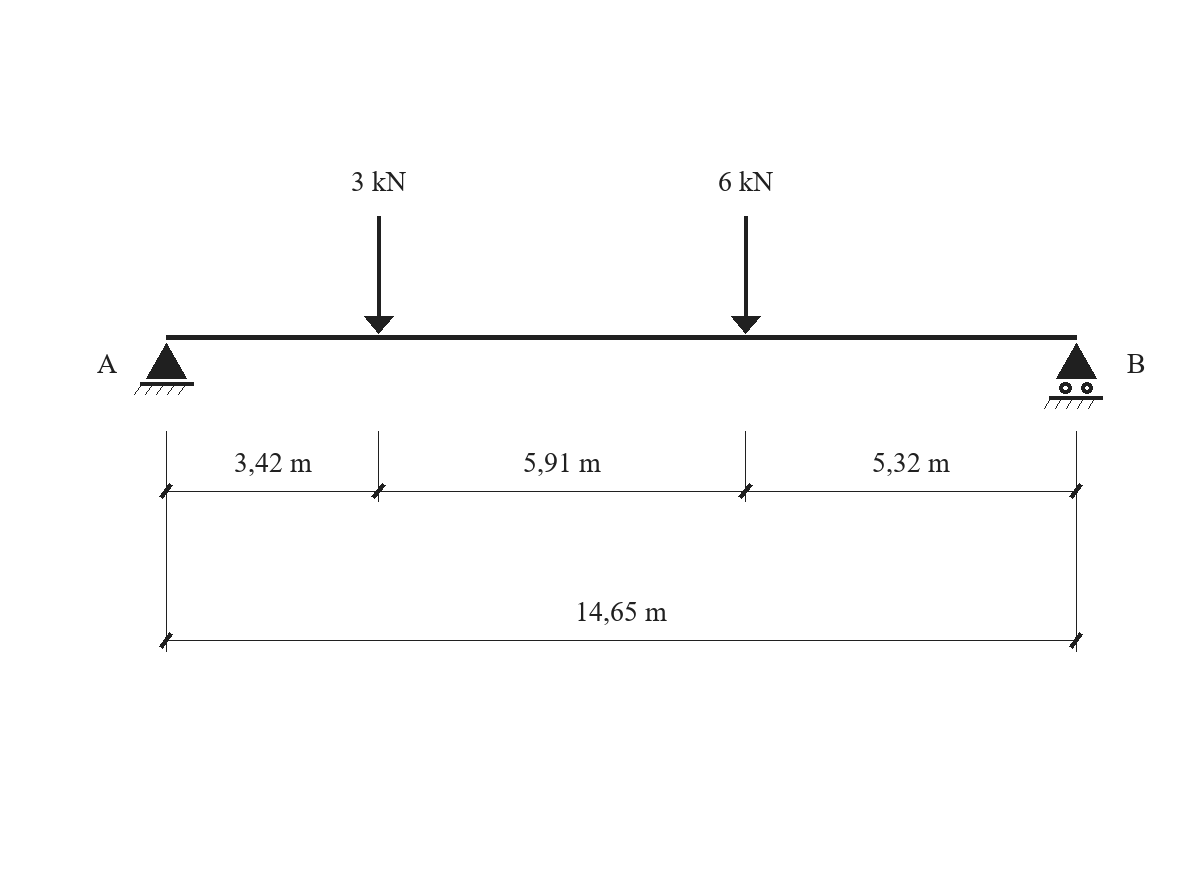pin_support: (134, 343, 194, 395)
point_load: (364, 216, 394, 334), (731, 216, 761, 334)
roller_support: (1044, 343, 1103, 409)
